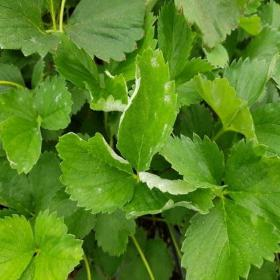Powdery Mildew Leaf: (116, 46, 178, 172), (55, 132, 138, 214), (121, 171, 215, 220), (191, 70, 245, 129), (0, 114, 42, 176), (34, 74, 75, 131), (82, 68, 130, 112), (0, 85, 41, 123)
